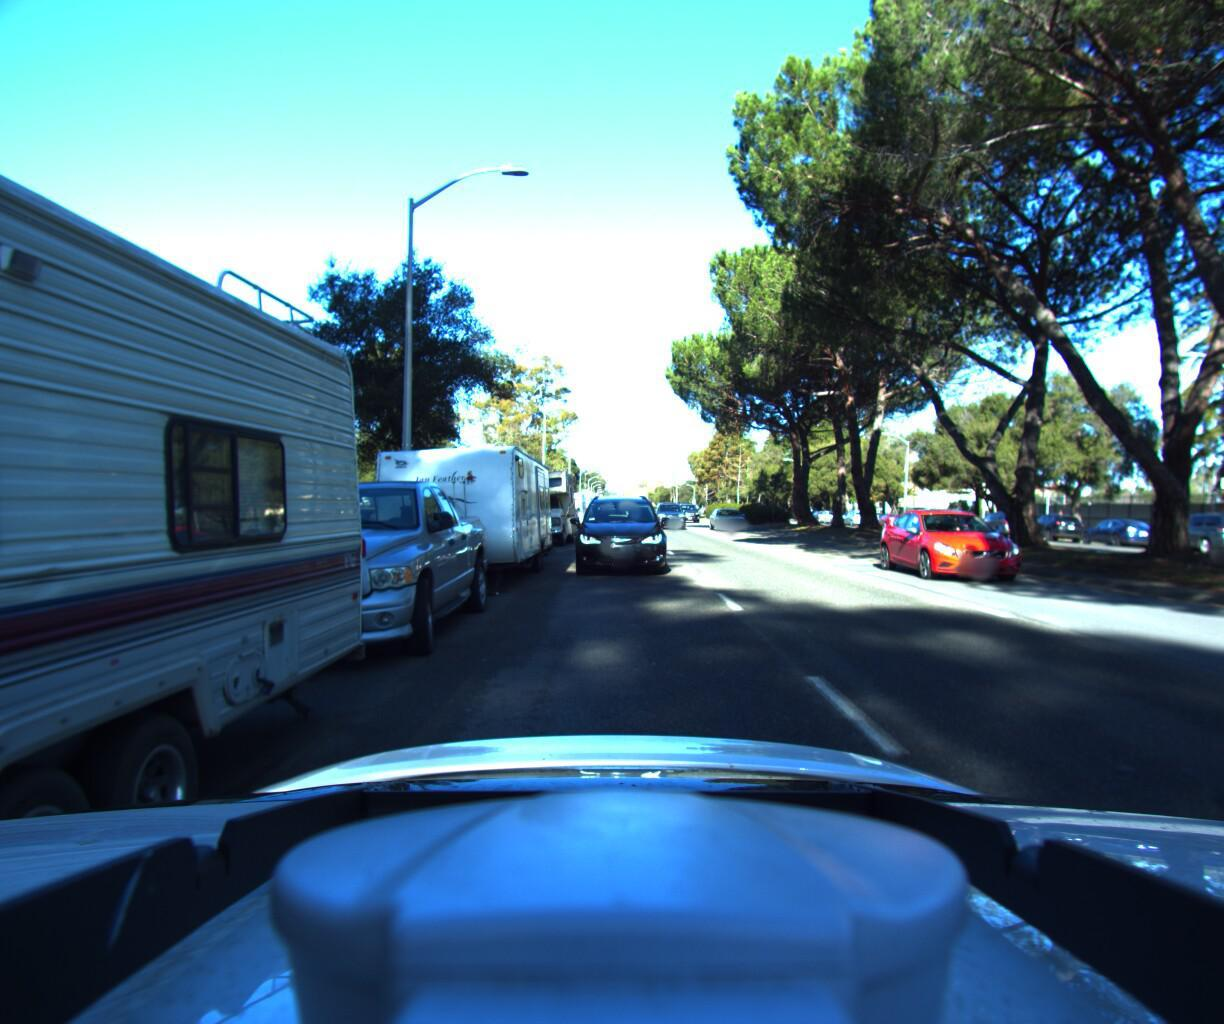car: (150, 458, 511, 685), (886, 503, 1081, 588), (574, 492, 667, 581), (1148, 509, 1224, 556), (1077, 515, 1165, 549), (1019, 509, 1089, 542), (535, 490, 582, 535), (708, 506, 753, 532), (656, 498, 693, 529), (874, 509, 908, 529), (835, 506, 869, 525), (680, 507, 706, 527)
other_vehicle: (355, 435, 556, 608), (497, 462, 579, 548), (554, 489, 589, 528)
